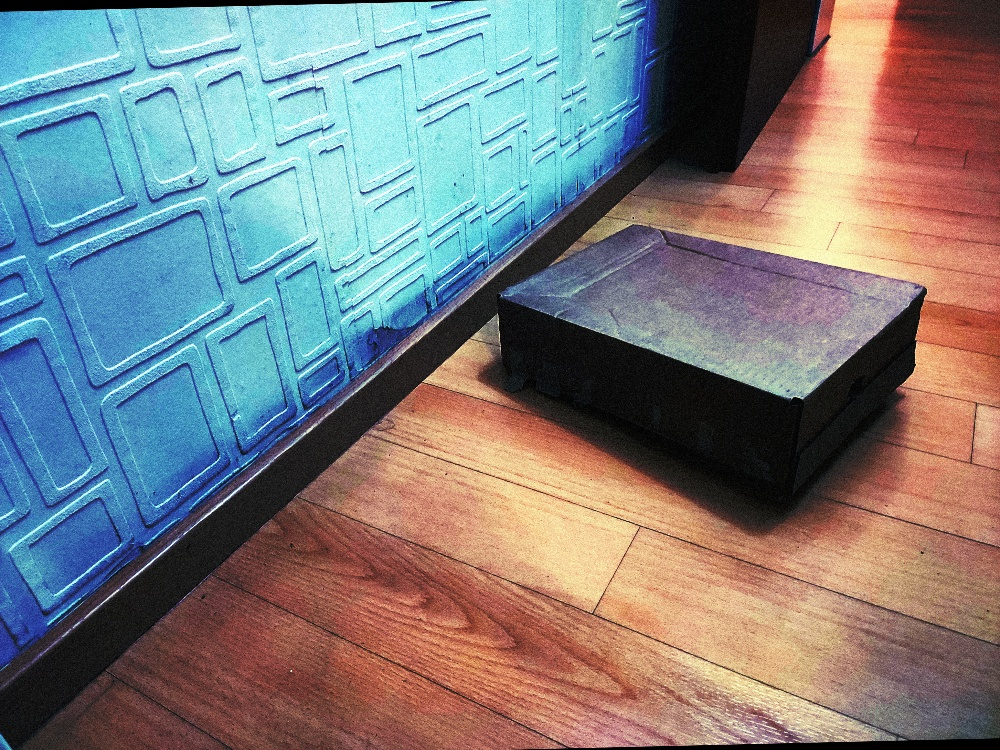good-parcel: (473, 201, 949, 531)
